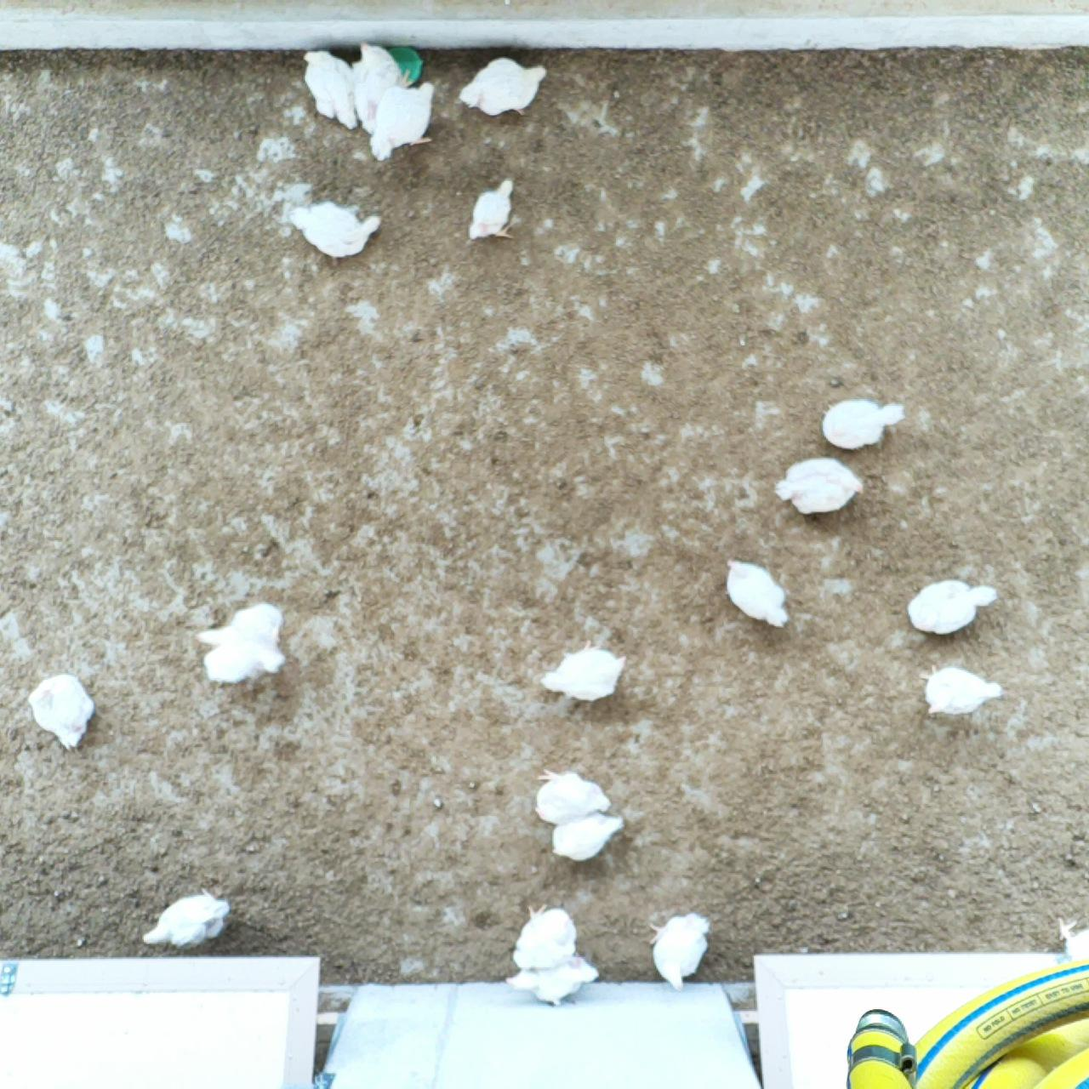chicken: (192, 602, 297, 684), (366, 78, 446, 162), (772, 456, 868, 523), (286, 200, 383, 265), (460, 52, 553, 118), (346, 41, 411, 135), (137, 888, 234, 948), (293, 46, 361, 130), (26, 672, 96, 751), (908, 579, 999, 639), (722, 555, 791, 633), (541, 643, 629, 703), (818, 395, 910, 452), (652, 905, 712, 992), (502, 956, 602, 1008), (918, 663, 1007, 718), (509, 904, 576, 975), (530, 768, 610, 824), (547, 811, 628, 862), (465, 174, 521, 246), (1054, 914, 1089, 968)
